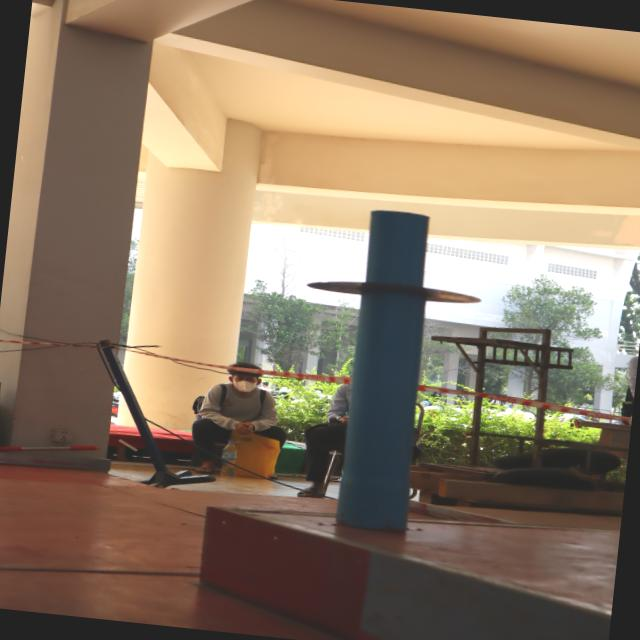pole: (298, 190, 494, 364)
